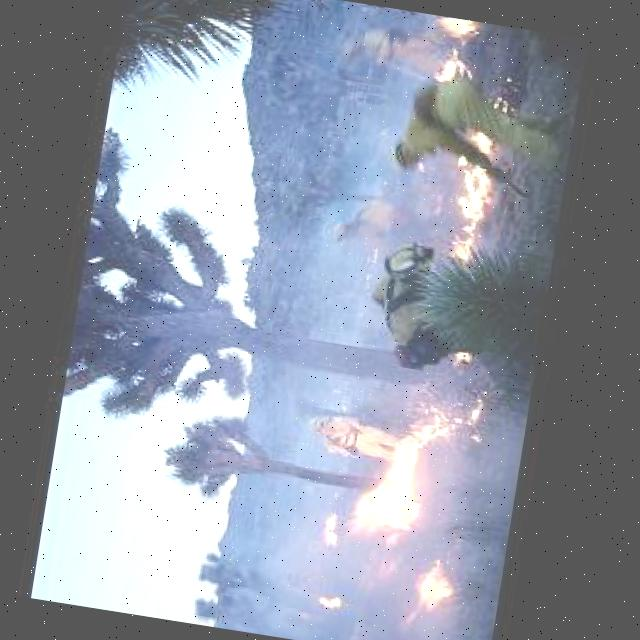fire: (332, 390, 482, 634), (437, 122, 492, 258), (429, 15, 483, 86)
